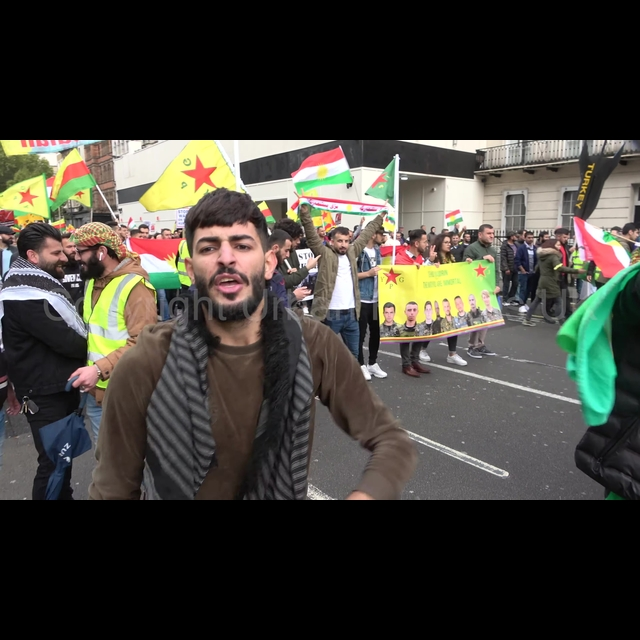IBKY: (445, 210, 464, 227)
YPG: (176, 154, 215, 194), (9, 184, 40, 209)
